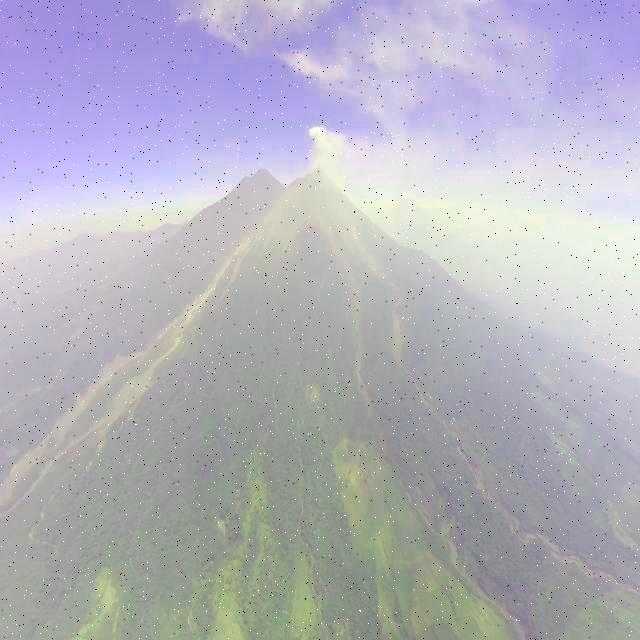Plume: (308, 122, 350, 174)
Summit: (302, 166, 336, 186)
